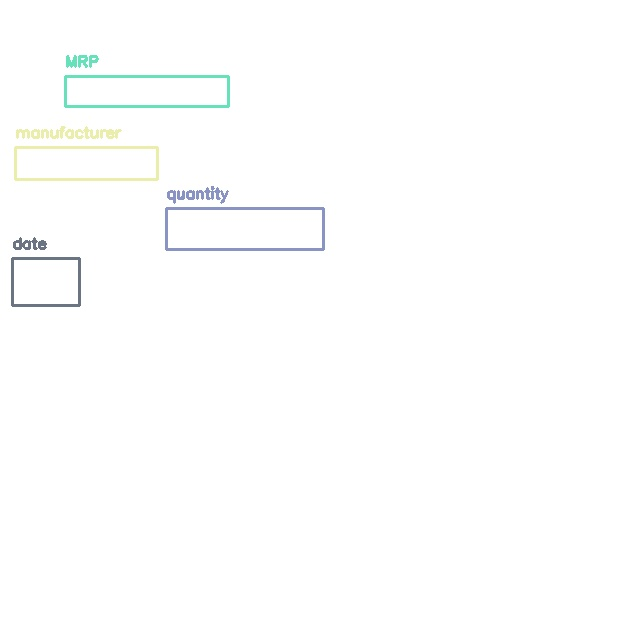MRP: (65, 76, 228, 106)
date: (12, 258, 79, 305)
manufacturer: (15, 147, 157, 179)
quantity: (166, 208, 323, 249)
